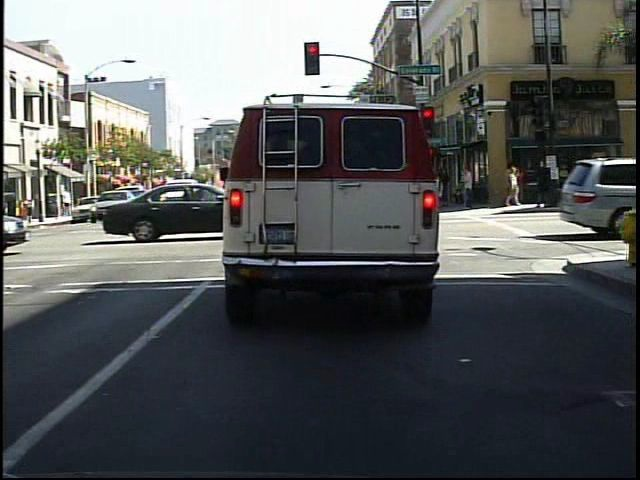person: (534, 158, 555, 213), (511, 165, 531, 209)
